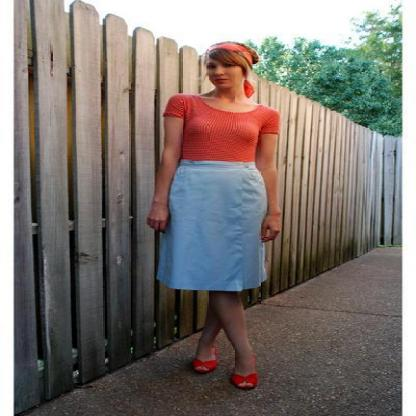shirt: (164, 96, 279, 162)
shoe: (195, 348, 258, 386)
skirt: (138, 161, 270, 290)
